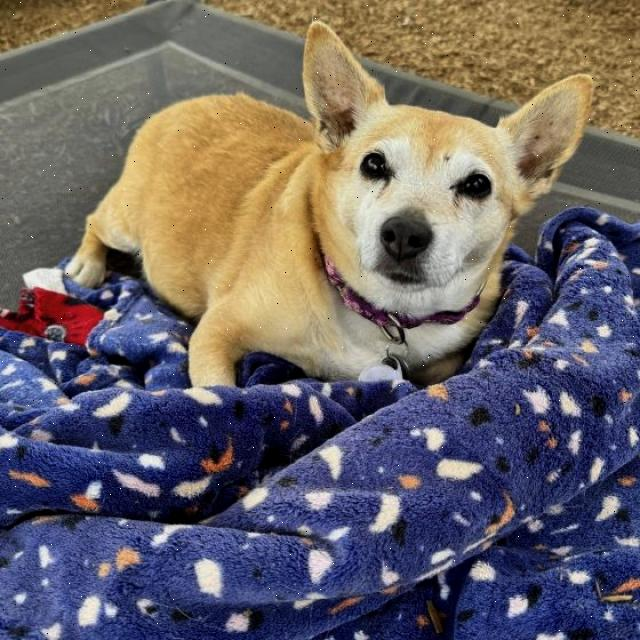corgi_dog: (291, 20, 598, 292)
